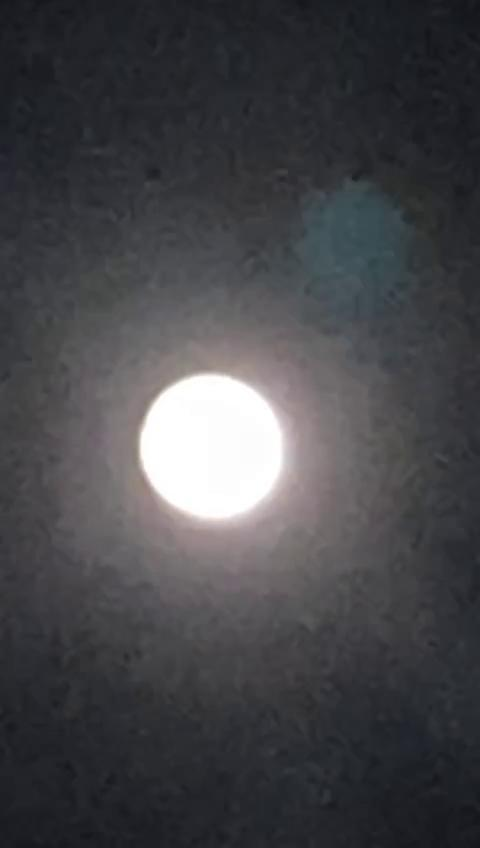moon: (142, 338, 310, 530)
